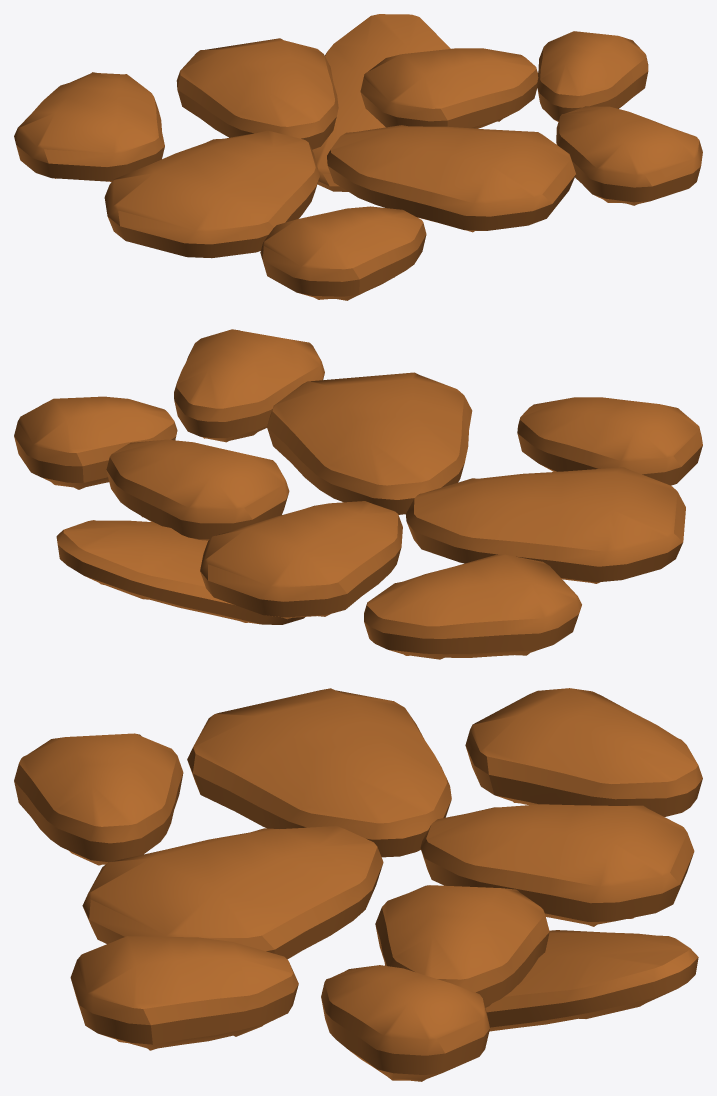
File: Brown4_seed.fbx
The picture shows the model from 3 angles, top to bottom: view 1: azimuth 30°, elevation 25°; view 2: azimuth 150°, elevation 25°; view 3: azimuth 270°, elevation 25°; orthographic projection. The views are drawn at different scales.
Visible parts, largest first — view 1: seed1.014, seed1.013, seed1.015, seed1.021, seed1.019, seed1.020, seed1.018, seed1.017, seed1.016; view 2: seed1.013, seed1.014, seed1.015, seed1.021, seed1.019, seed1.020, seed1.018, seed1.016, seed1.017; view 3: seed1.013, seed1.014, seed1.015, seed1.021, seed1.018, seed1.020, seed1.019, seed1.017, seed1.016.
Part boxes in pixels (x1,y1,x2,y2): seed1.014: (327,125,575,232); seed1.013: (104,130,319,258); seed1.015: (176,38,338,149); seed1.021: (14,72,164,181); seed1.019: (360,48,538,128); seed1.020: (260,206,426,300); seed1.018: (556,106,702,205); seed1.017: (537,31,648,121); seed1.016: (312,14,450,191); seed1.013: (405,467,685,583); seed1.014: (267,372,472,514); seed1.015: (200,501,402,619); seed1.021: (364,554,581,659); seed1.019: (106,439,289,540); seed1.020: (517,397,702,485); seed1.018: (174,329,324,442); seed1.016: (56,520,304,624); seed1.017: (14,396,177,489); seed1.013: (187,688,451,857); seed1.014: (82,826,383,959); seed1.015: (420,804,694,926); seed1.021: (465,688,702,816); seed1.018: (70,936,298,1050); seed1.020: (14,733,183,865); seed1.019: (375,885,549,1007); seed1.017: (321,965,489,1081); seed1.016: (485,930,698,1031).
Size of the model in its own units: 110 by 20.93 by 90.88.
